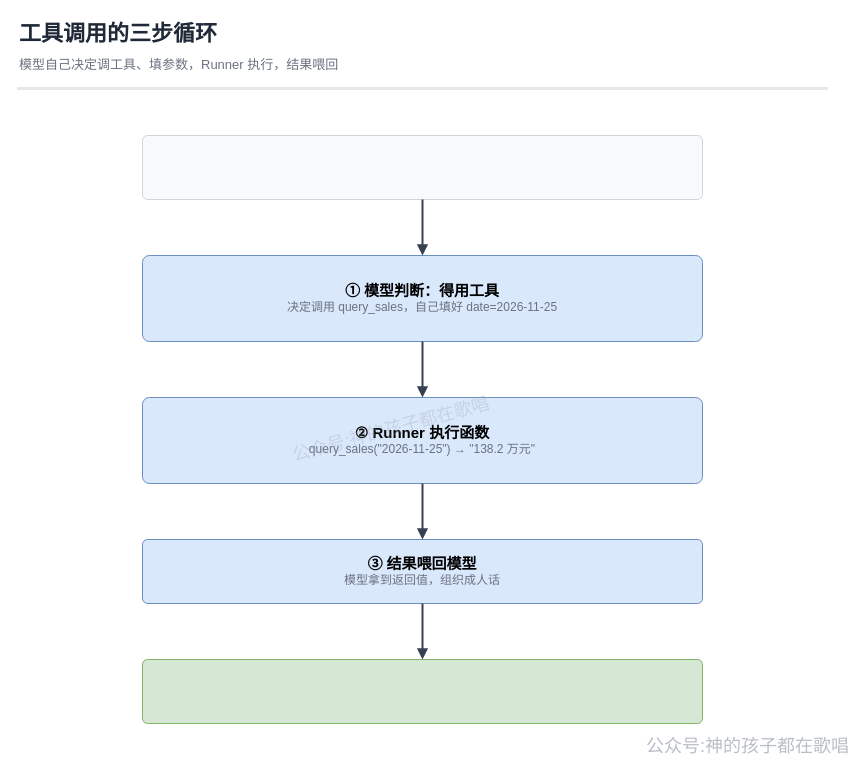
Some shapes in this 868 by 780 pixel diagram are drawn without their labels. The shapes that lost their labels are listed below. From the top down, each one's centre as x and y in pixels, then its label:
At point (422, 167): "用户问题 帮我查一下 2026-11-25 的销售额".
At point (422, 691): "最终回答 2026-11-25 的销售额是 138.2 万元".
